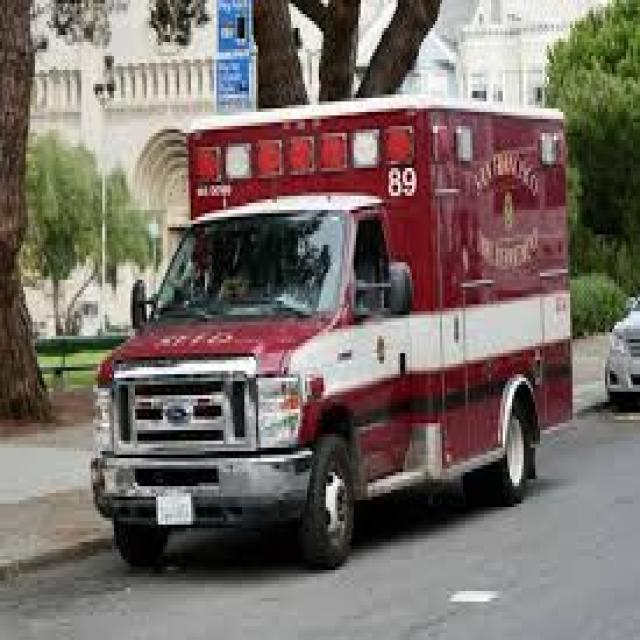Firetruck: (84, 82, 588, 577)
